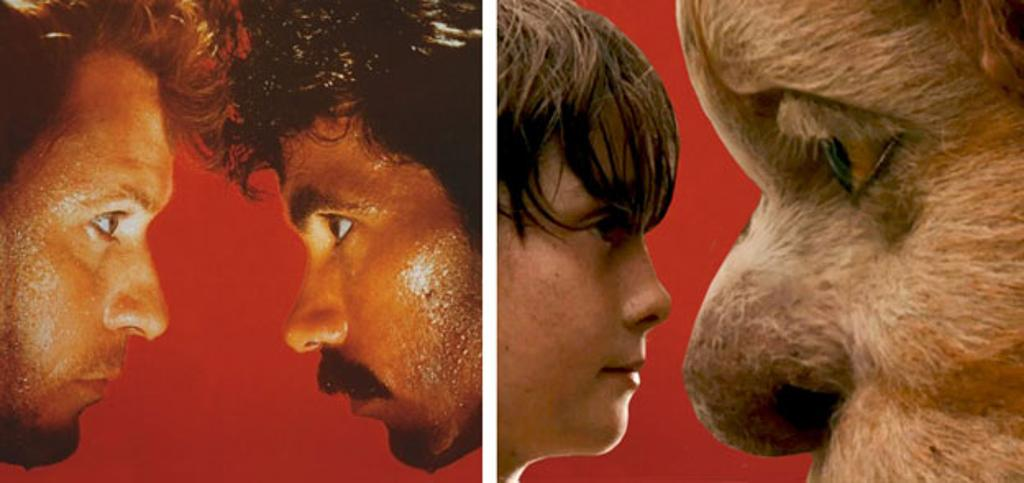face: (268, 82, 458, 466), (14, 90, 184, 466), (528, 72, 680, 464)
